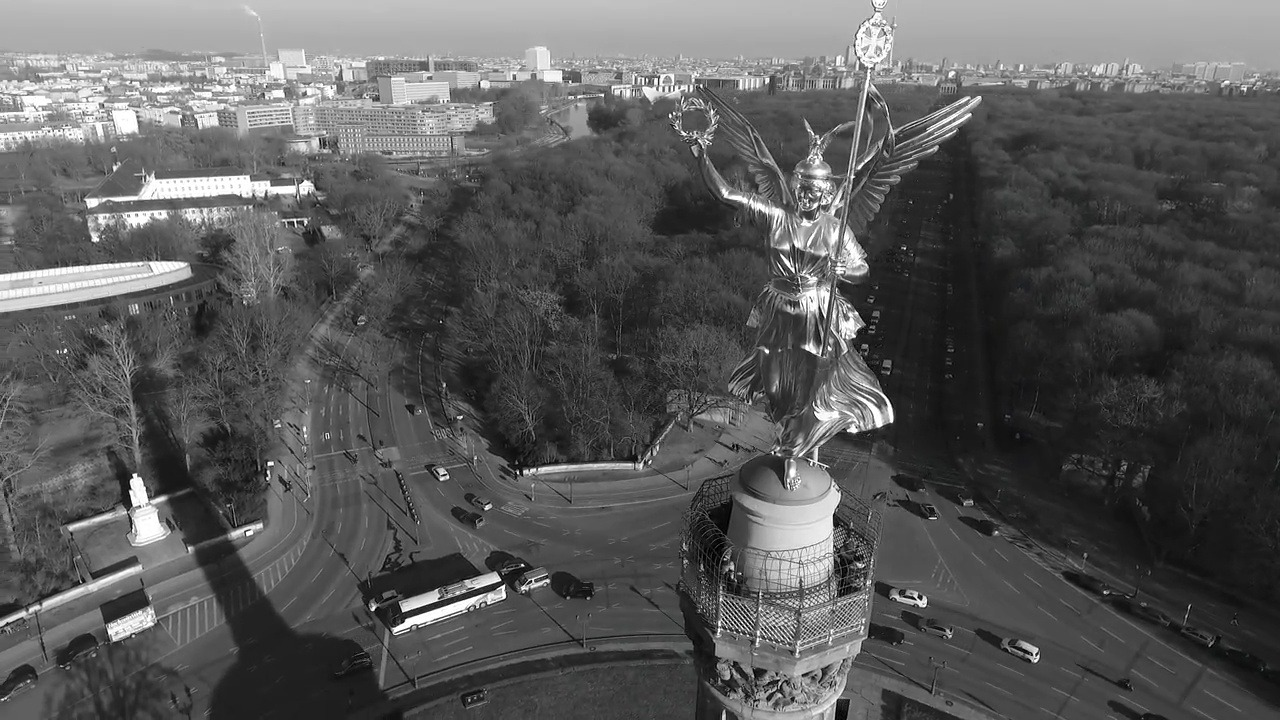bus: (380, 568, 511, 641)
car: (998, 633, 1047, 667), (881, 581, 934, 611), (914, 613, 961, 646)
